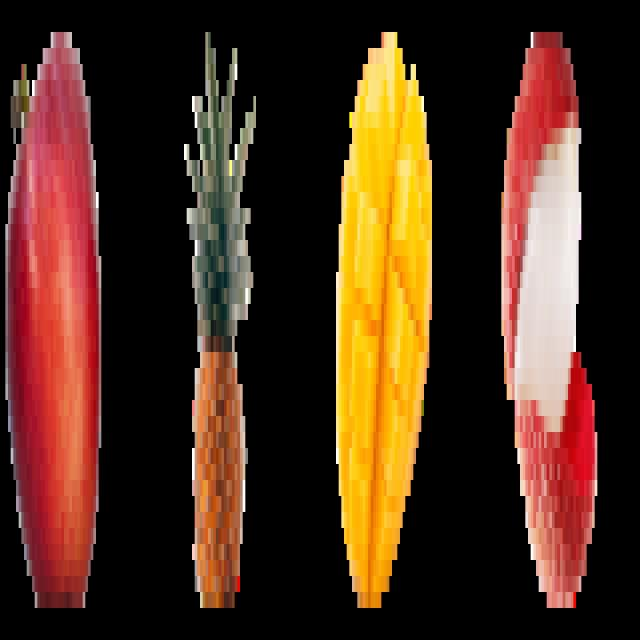apple: (4, 19, 106, 628)
lychee: (497, 13, 601, 625)
mango: (334, 16, 436, 619)
pineapples: (183, 13, 260, 629)
